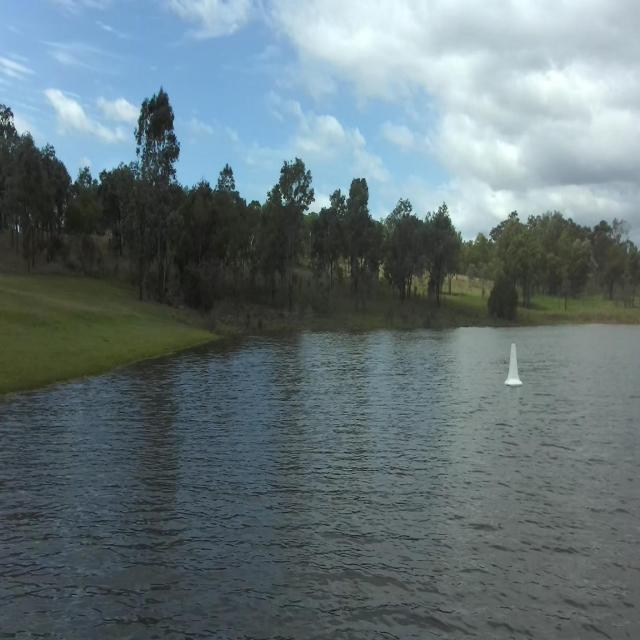White_Buoy: (500, 342, 526, 394)
